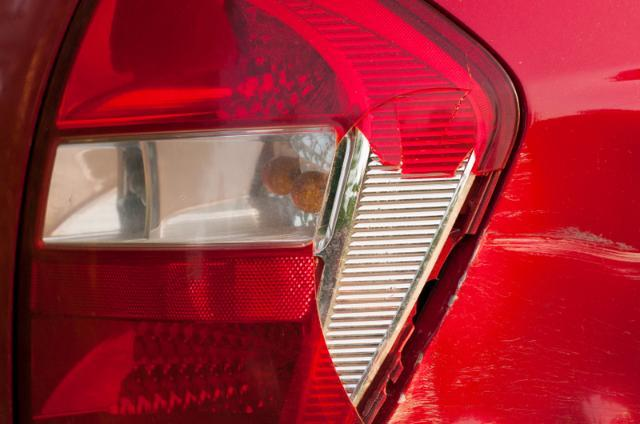Light: (283, 100, 531, 423)
